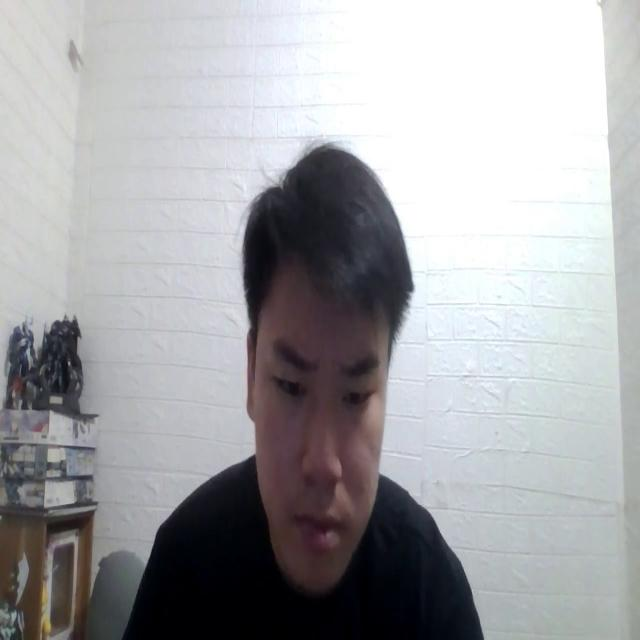student: (127, 141, 477, 640)
